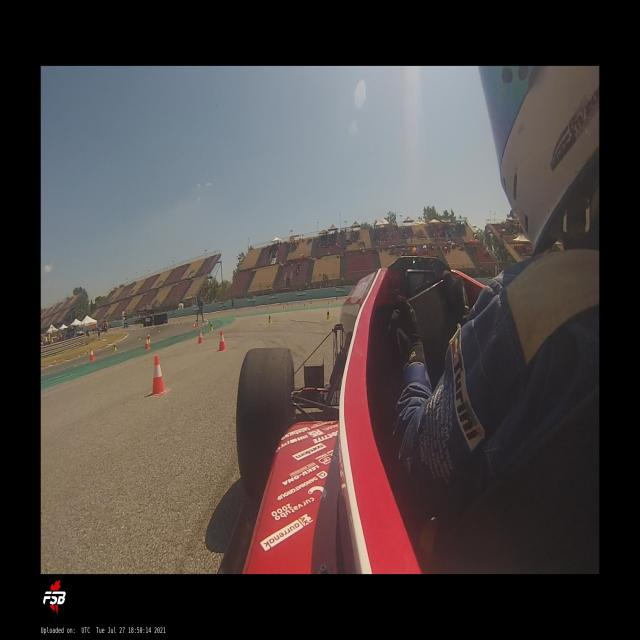orange_cone: (151, 356, 168, 396), (217, 330, 226, 352), (198, 329, 204, 344), (90, 348, 94, 362), (146, 336, 150, 349), (194, 321, 198, 327), (54, 359, 56, 365), (87, 349, 89, 355)
yellow_cone: (326, 308, 330, 320), (268, 314, 272, 324), (148, 332, 151, 343), (114, 343, 118, 351), (210, 322, 213, 332)
